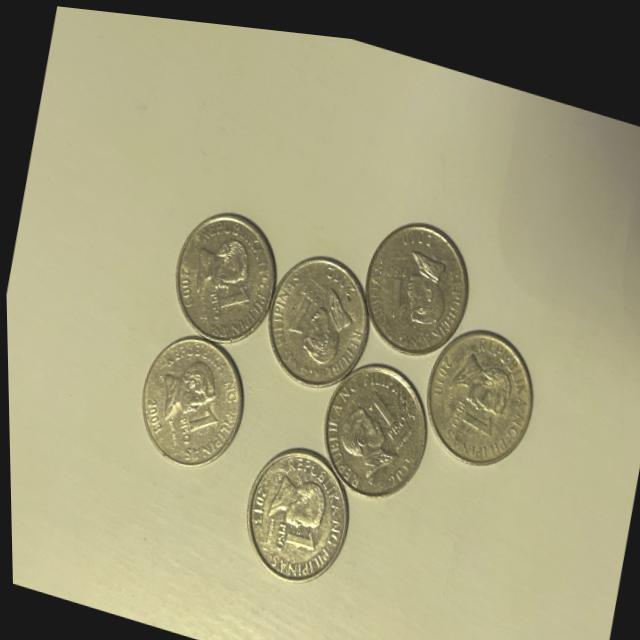1_Old_Front: (278, 267, 325, 341), (170, 393, 221, 453), (360, 379, 414, 435), (201, 269, 252, 327), (373, 246, 415, 316), (441, 387, 499, 437), (266, 509, 320, 557)
